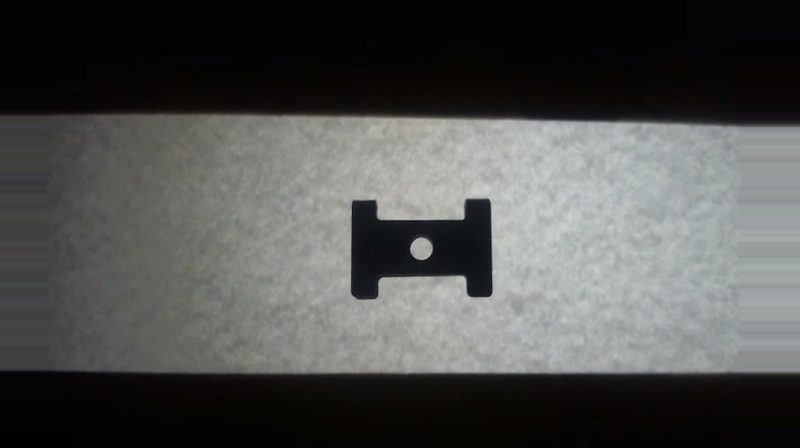O002: (347, 195, 498, 301)
